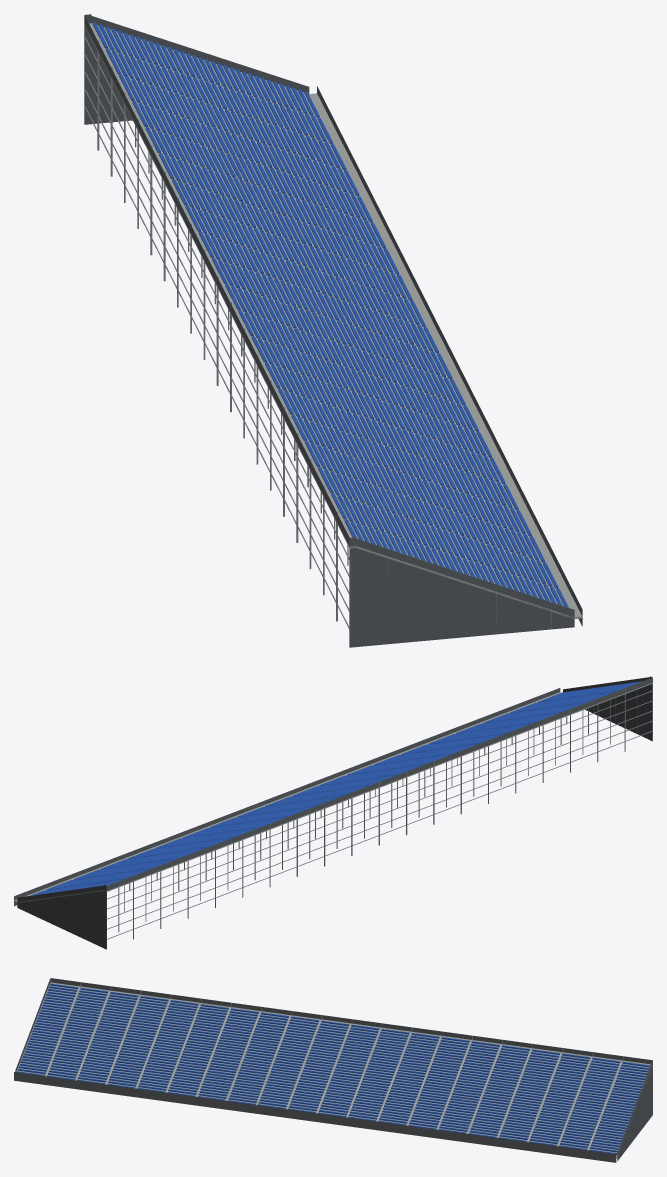
The model's file is zan_stand_tarzan_in.glb.
3 renders of one model, top to bottom at view 1: azimuth 30°, elevation 25°; view 2: azimuth 150°, elevation 25°; view 3: azimuth 270°, elevation 25°, orthographic. The views are drawn at different scales.
Visible parts, largest first — view 1: zandvoort-tarzan-in; view 2: zandvoort-tarzan-in; view 3: zandvoort-tarzan-in.
Part boxes in pixels (x1,y1,x2,y2): zandvoort-tarzan-in: (84, 14, 582, 647); zandvoort-tarzan-in: (14, 676, 652, 949); zandvoort-tarzan-in: (14, 978, 652, 1162).
Bounding box in the file's own units: 77.4 × 15.2 × 161.
